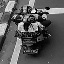motor: (12, 5, 49, 55)
